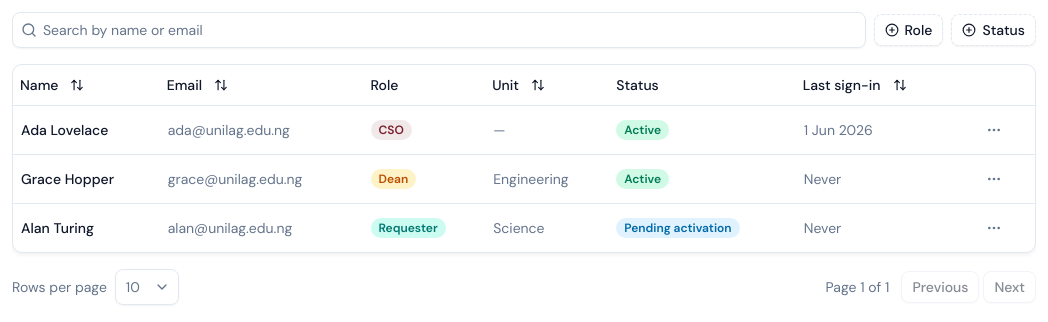
Test: UsersDataTable › filters by role via the Role dropdown
Click the button "Role" at (908, 30), box [874,14,943,46]
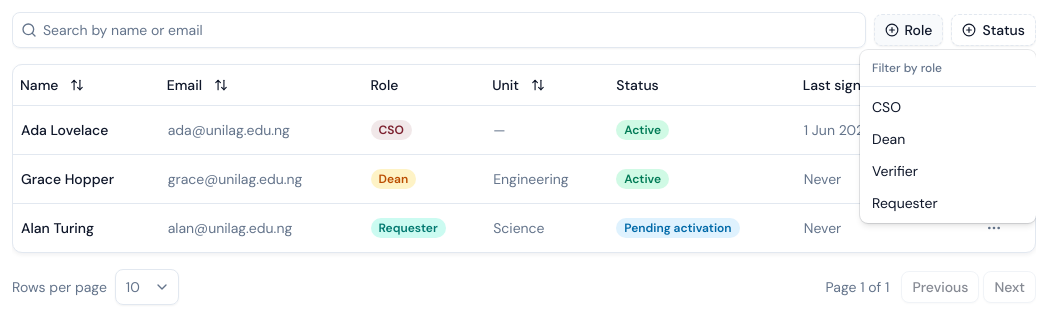
Click the menu item "Dean" at (889, 139), box [872,130,905,148]
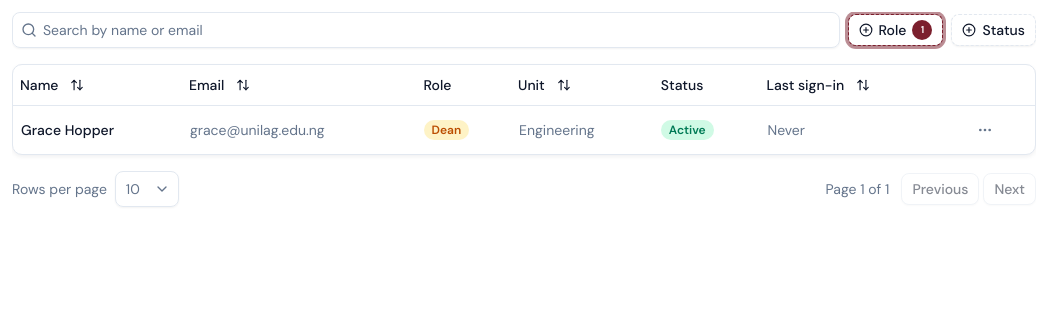
Expected: the text "Grace Hopper" is shown, [21,120,114,138]
Result: the text "Ada Lovelace" is gone
Result: the text "Alan Turing" is gone
